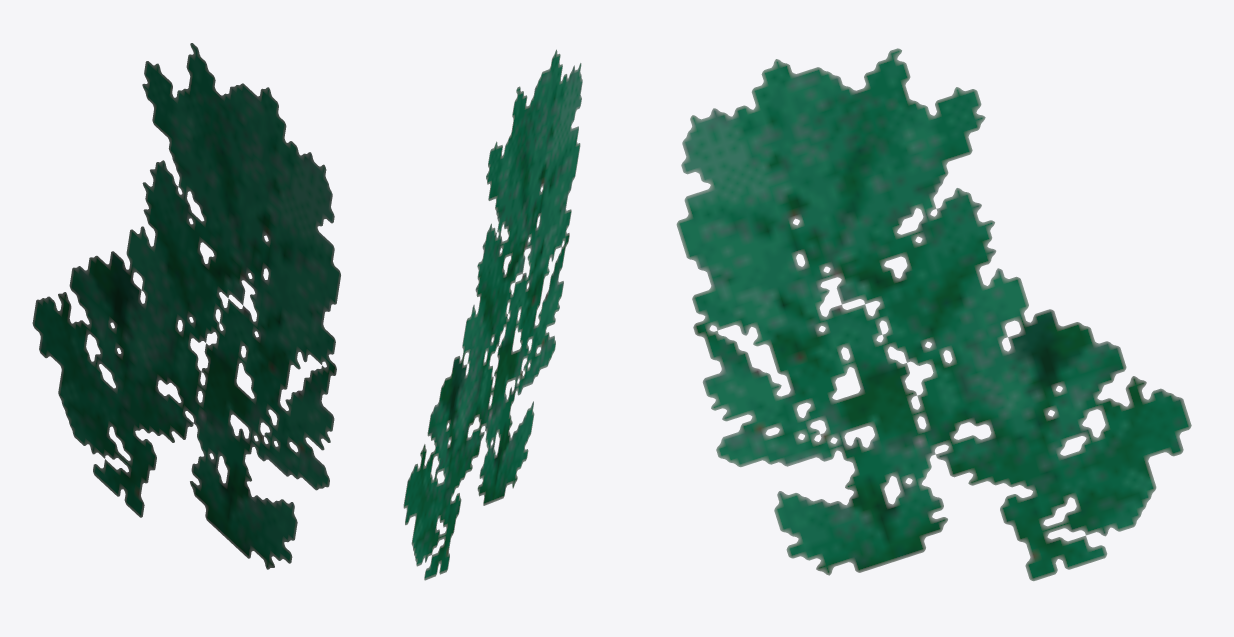
The model's file is Green Bush 5.fbx.
3 renders of one model, left to right at view 1: azimuth 30°, elevation 25°; view 2: azimuth 150°, elevation 25°; view 3: azimuth 270°, elevation 25°, orthographic. The views are drawn at different scales.
Parts seen in each view (by area): view 1: Grass; view 2: Grass; view 3: Grass.
Boxes of the visible parts, bbox=[...] form: Grass: bbox=[32, 43, 340, 569]; Grass: bbox=[403, 49, 582, 580]; Grass: bbox=[676, 48, 1191, 581].
Bounding box in the file's own units: 41.09 × 349 × 307.
